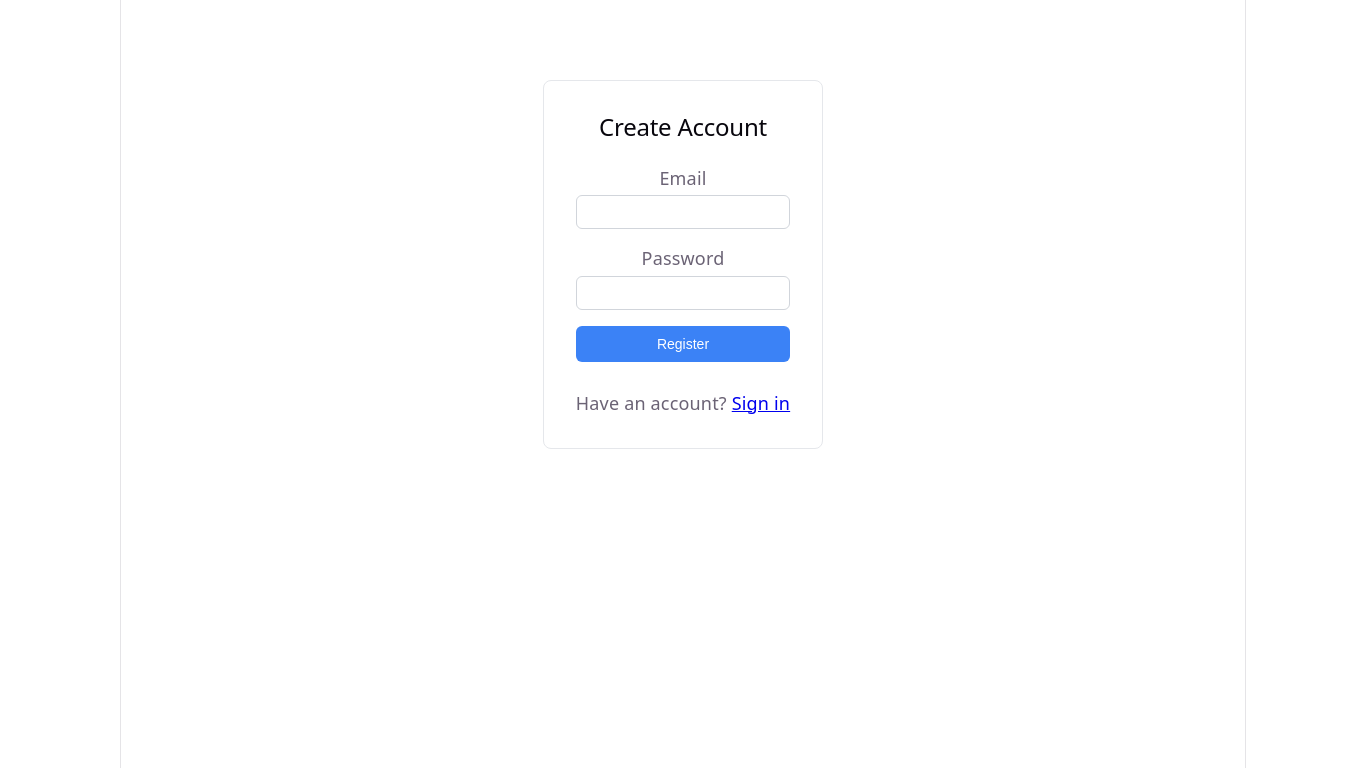
RegisterForm › shows validation error for invalid email
In the field labelled "Email": point(683, 212) left=576, top=195, right=790, bottom=229, type "not-an-email"
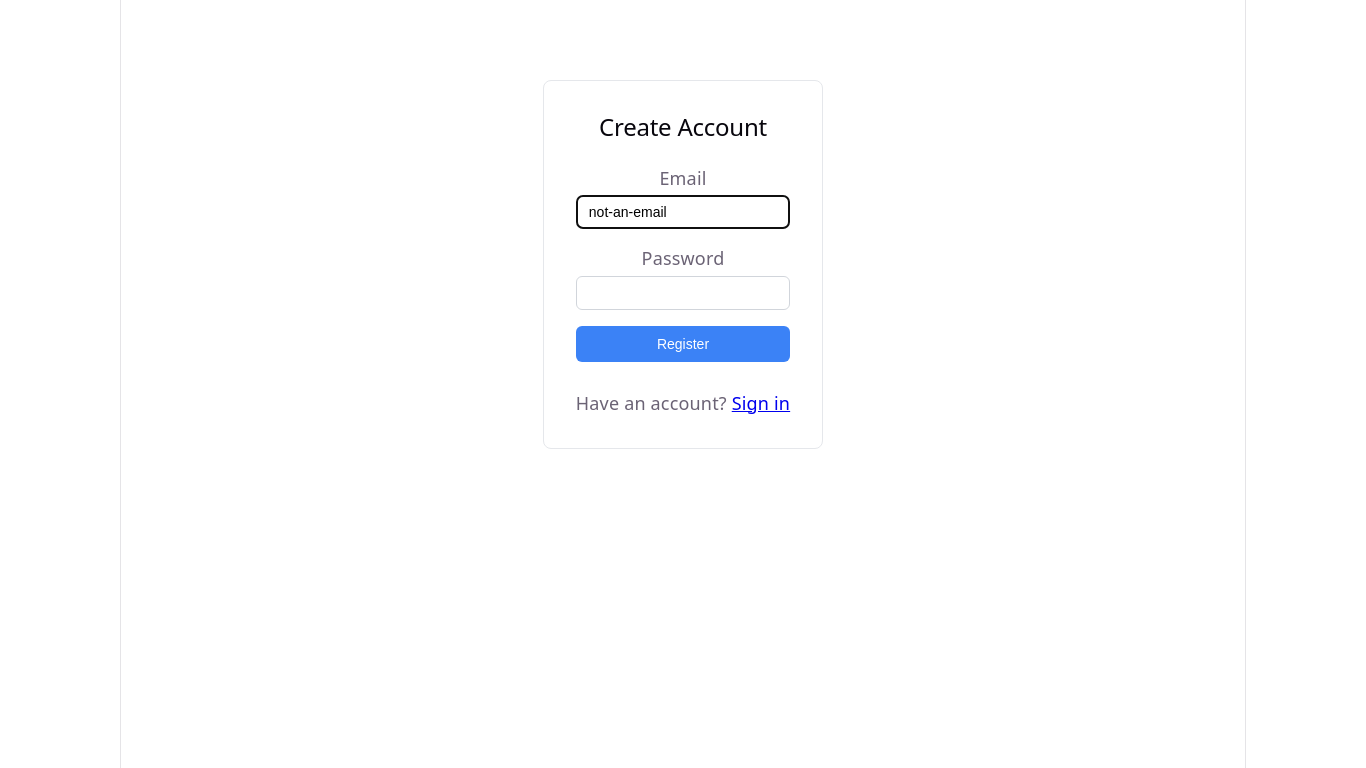
In the password field labelled "Password": point(683, 292) left=576, top=276, right=790, bottom=310, type "longenoughpass"
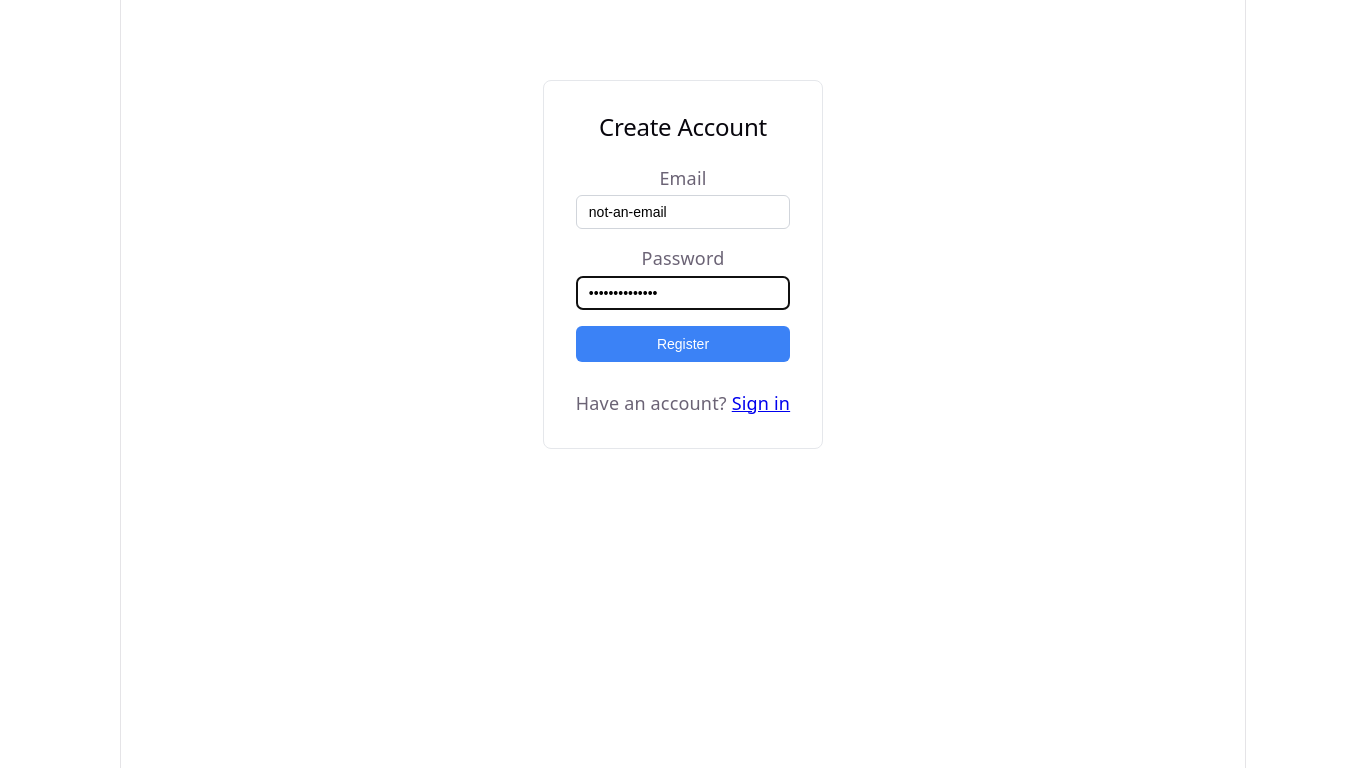
Click the button "Register": point(683, 344) left=576, top=326, right=790, bottom=362
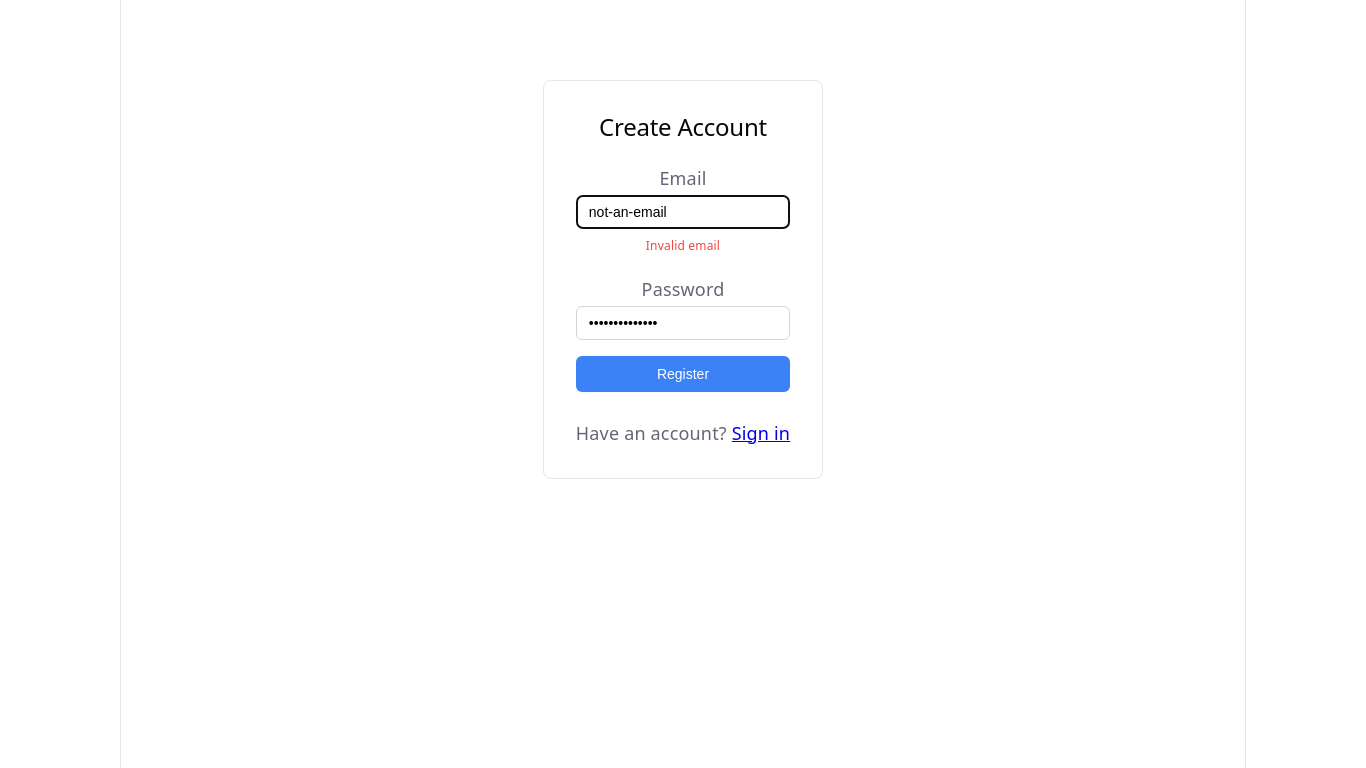
expect the text "Invalid email" is shown: met, box left=646, top=237, right=720, bottom=254
